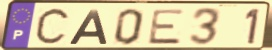0: (112, 7, 146, 47)
1: (242, 8, 260, 46)
3: (188, 7, 222, 48)
A: (67, 8, 109, 46)
C: (33, 6, 73, 49)
E: (146, 8, 187, 46)
